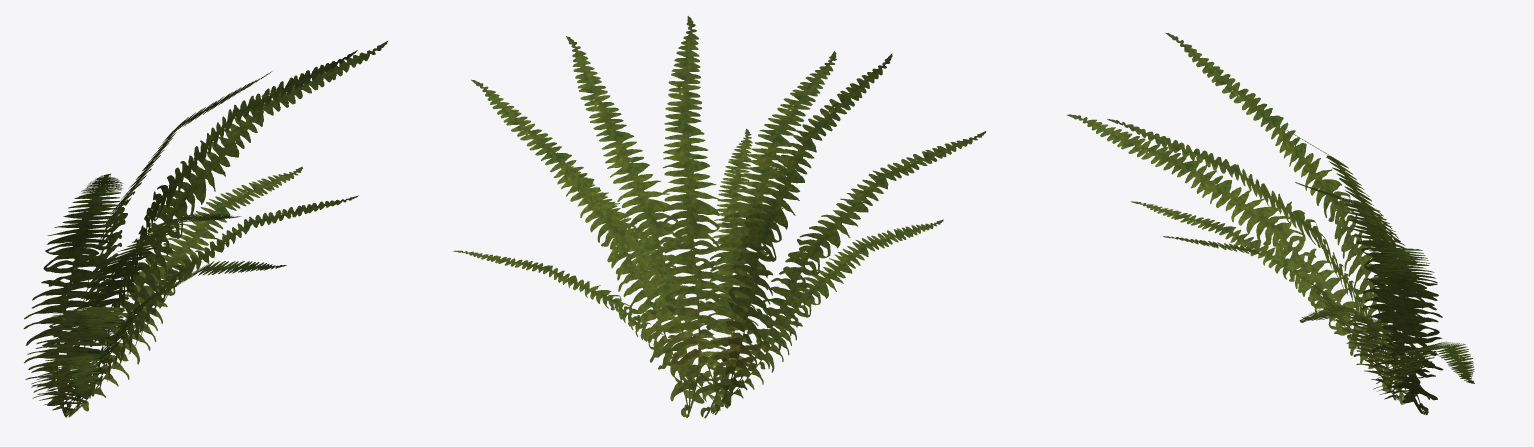
Rendered from SM_Lounge_Foliage_02.fbx.
The picture shows the model from 3 angles, left to right: view 1: azimuth 30°, elevation 25°; view 2: azimuth 150°, elevation 25°; view 3: azimuth 270°, elevation 25°; orthographic projection. The views are drawn at different scales.
Parts seen in each view (by area): view 1: SM_Lounge_Foliage_02; view 2: SM_Lounge_Foliage_02; view 3: SM_Lounge_Foliage_02.
Part boxes in pixels (x1=…): SM_Lounge_Foliage_02: x1=23, y1=41, x2=387, y2=417; SM_Lounge_Foliage_02: x1=453, y1=16, x2=985, y2=418; SM_Lounge_Foliage_02: x1=1067, y1=33, x2=1474, y2=415.
Bounding box in the file's own units: 84.57 × 63.2 × 76.29.
1 material, 1 textured.
